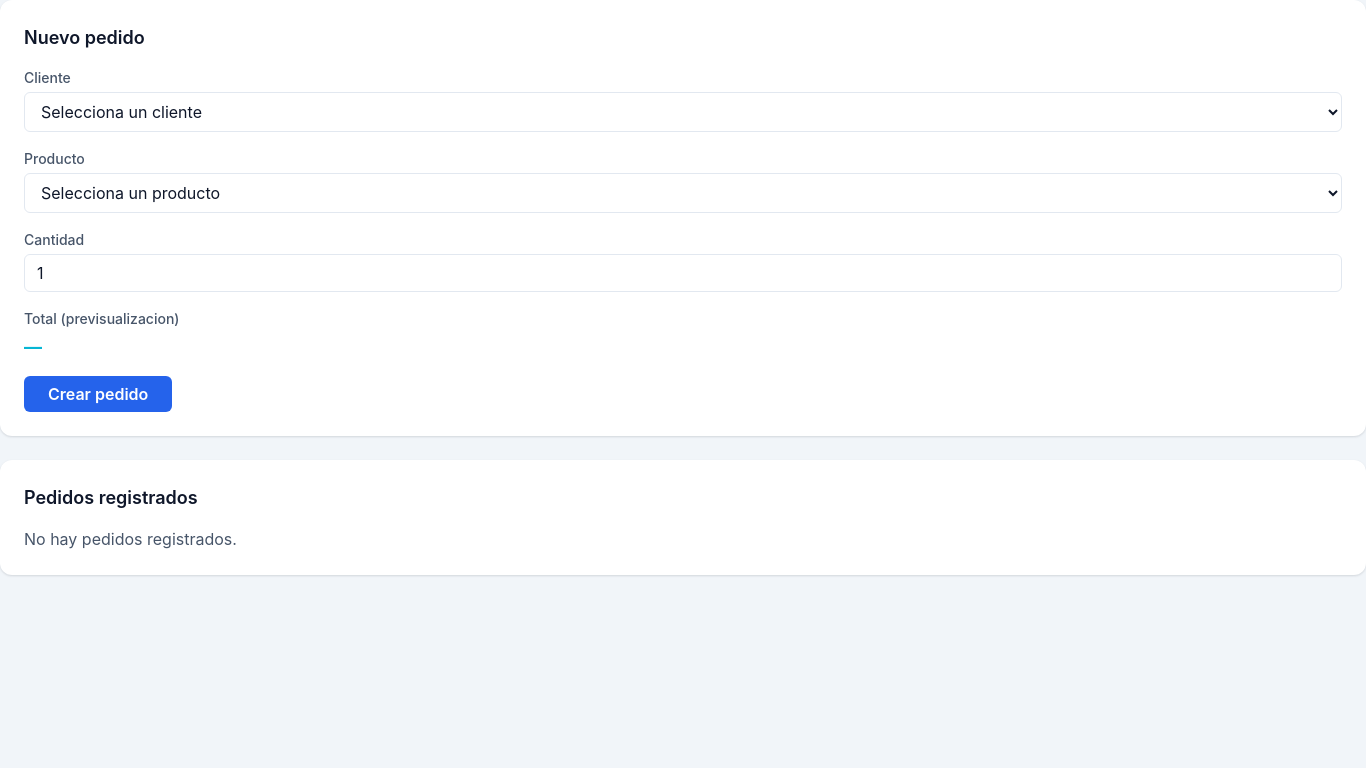
Pedidos: previsualizacion del Total (Req. 9.2, 9.3) › muestra cantidad * precio del producto y lo recalcula al cambiar la cantidad
Step 1. Select "Hamburguesa ($55.00)" in the dropdown labelled "Producto" → (683, 193), box [24,173,1342,213]
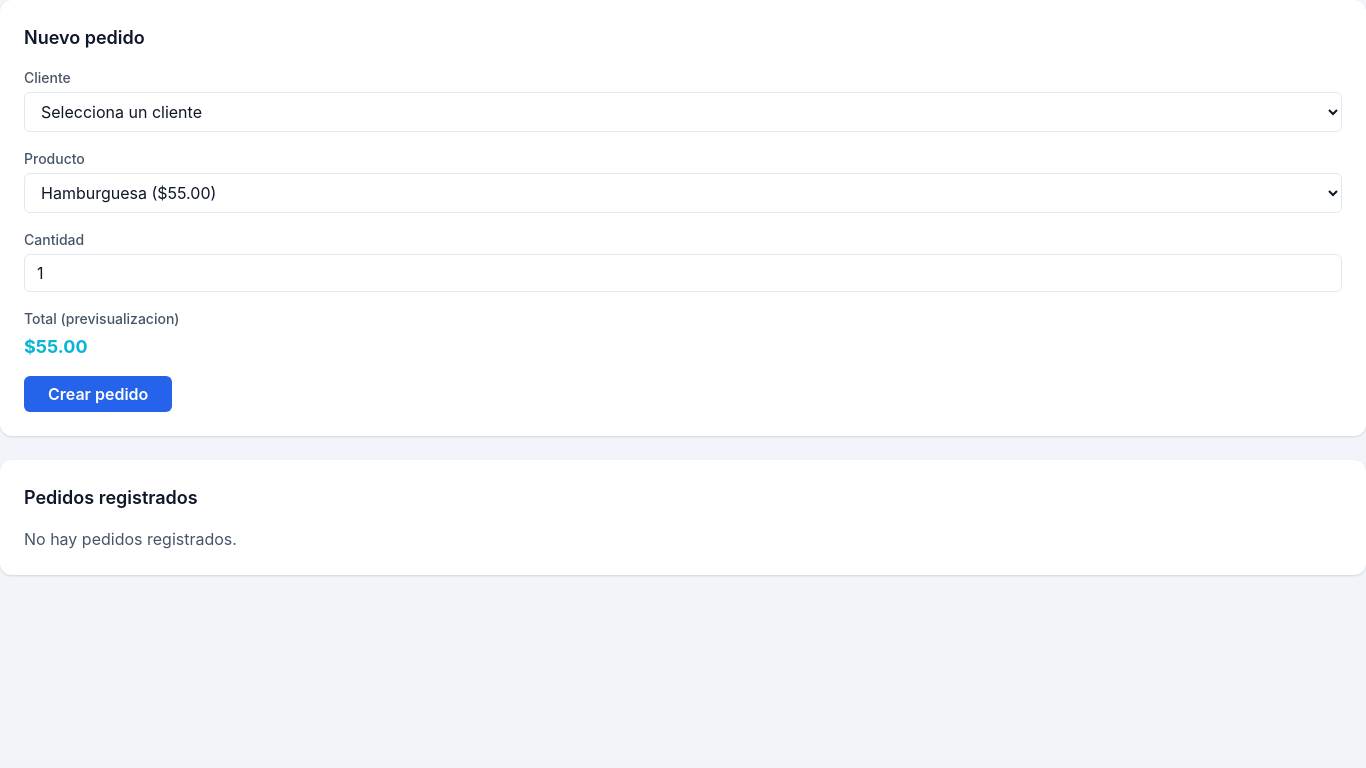
Expected: the text with test id "total-previsualizado" reads "$55.00", [24,336,88,357]
Step 2. Replace the text in the number field labelled "Cantidad" with "3" → (683, 273), box [24,254,1342,292]
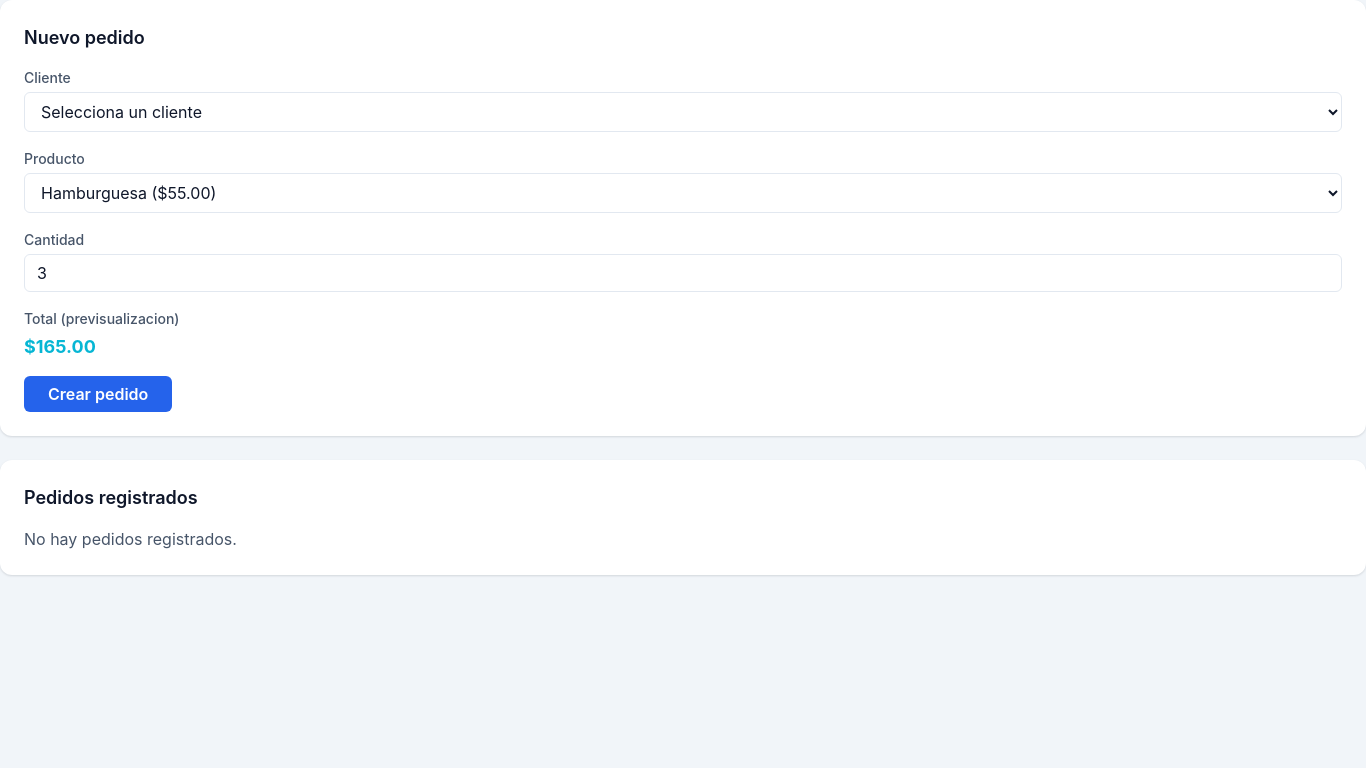
Expected: the text with test id "total-previsualizado" reads "$165.00", [24,336,96,357]
Step 3. Replace the text in the number field labelled "Cantidad" with "5" → (683, 273), box [24,254,1342,292]
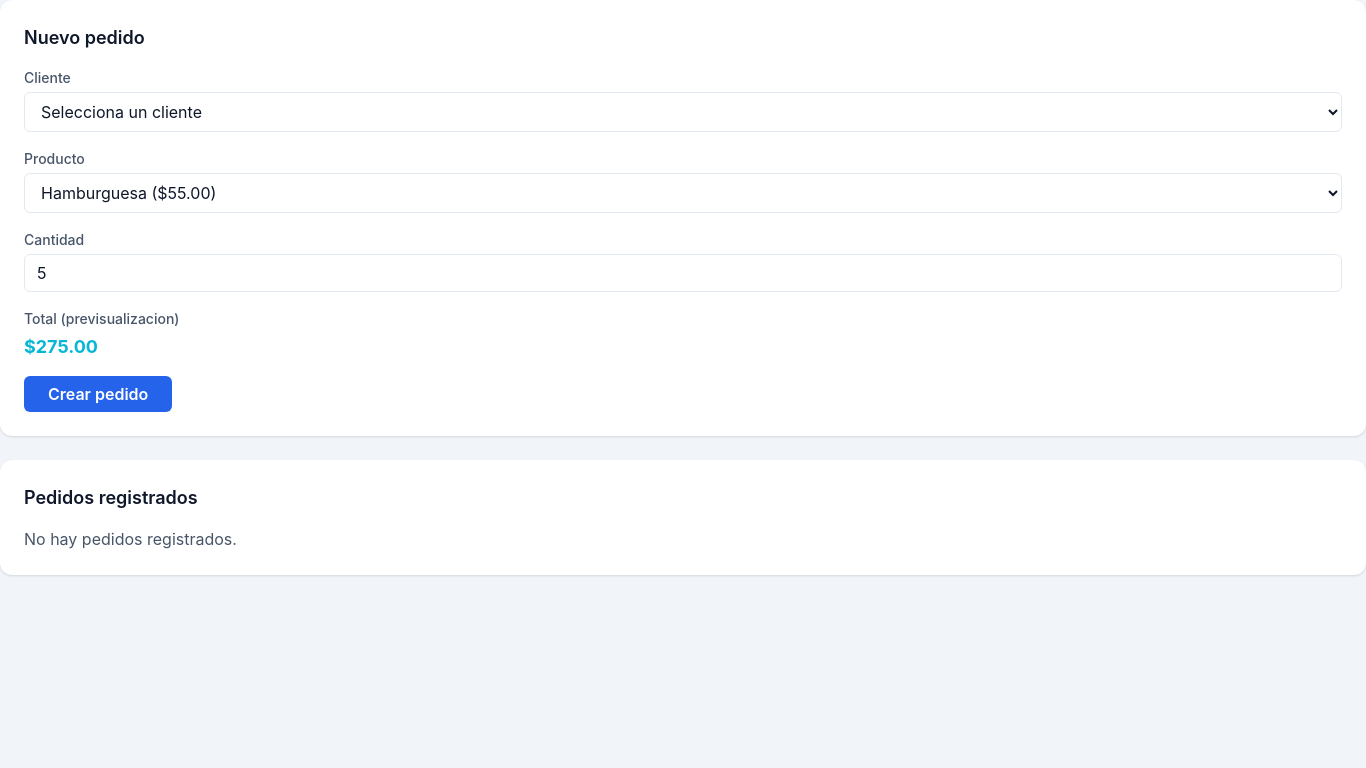
Expected: the text with test id "total-previsualizado" reads "$275.00", [24,336,98,357]
